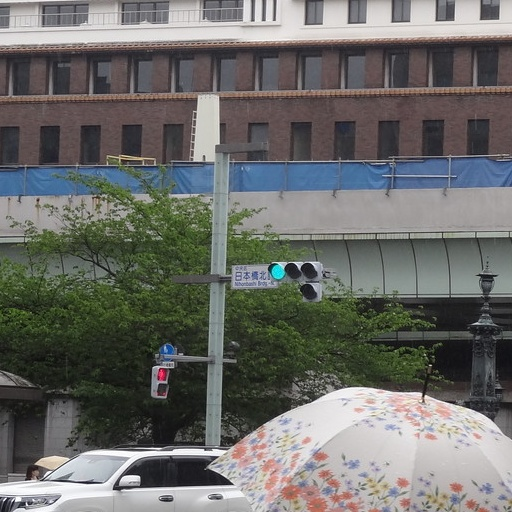Pedestrian_Signal_Red: (151, 360, 173, 402)
Traffic_Signal_Blue: (260, 251, 330, 287)
